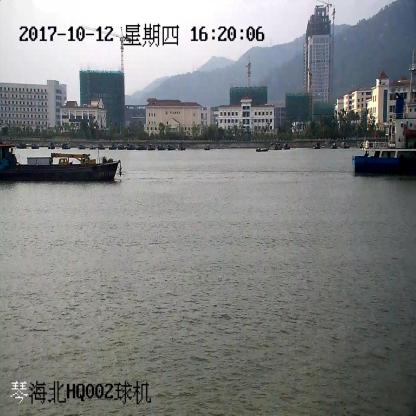Fishing Boat: (0, 143, 122, 181)
